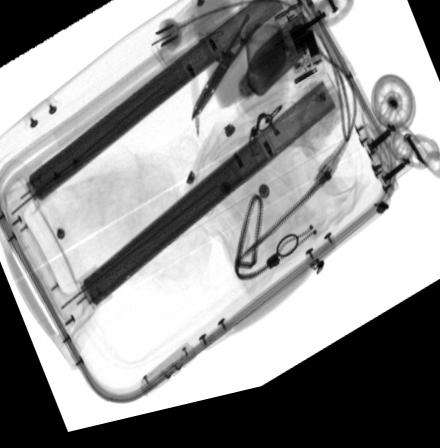Scissors: (191, 0, 292, 128)
